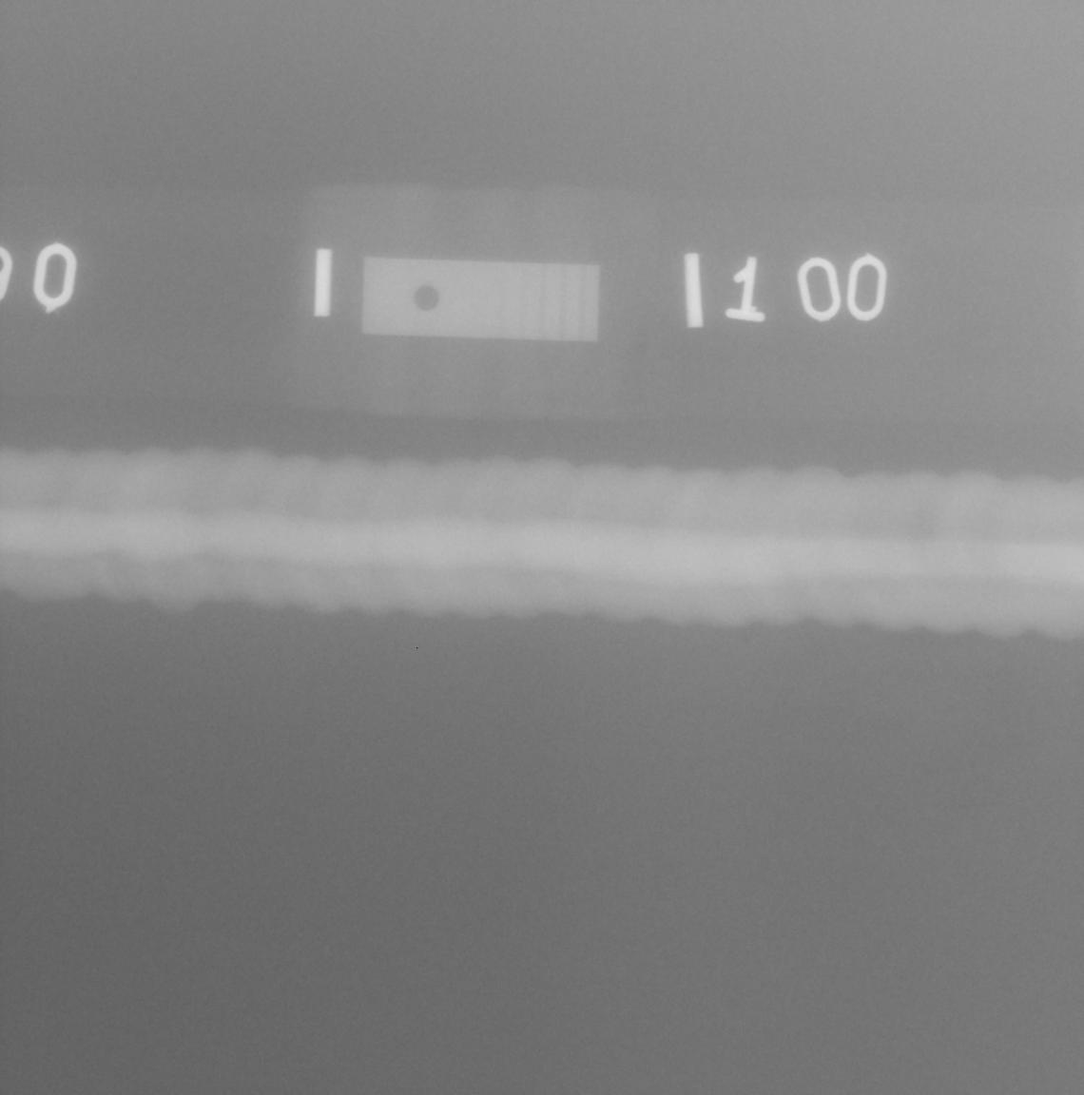Reference Standard 1: (361, 257, 601, 343)
